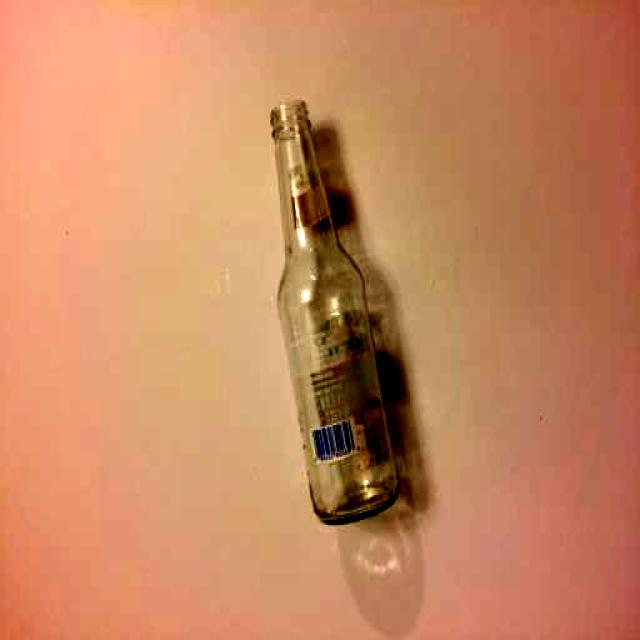Glass: (266, 90, 407, 536)
